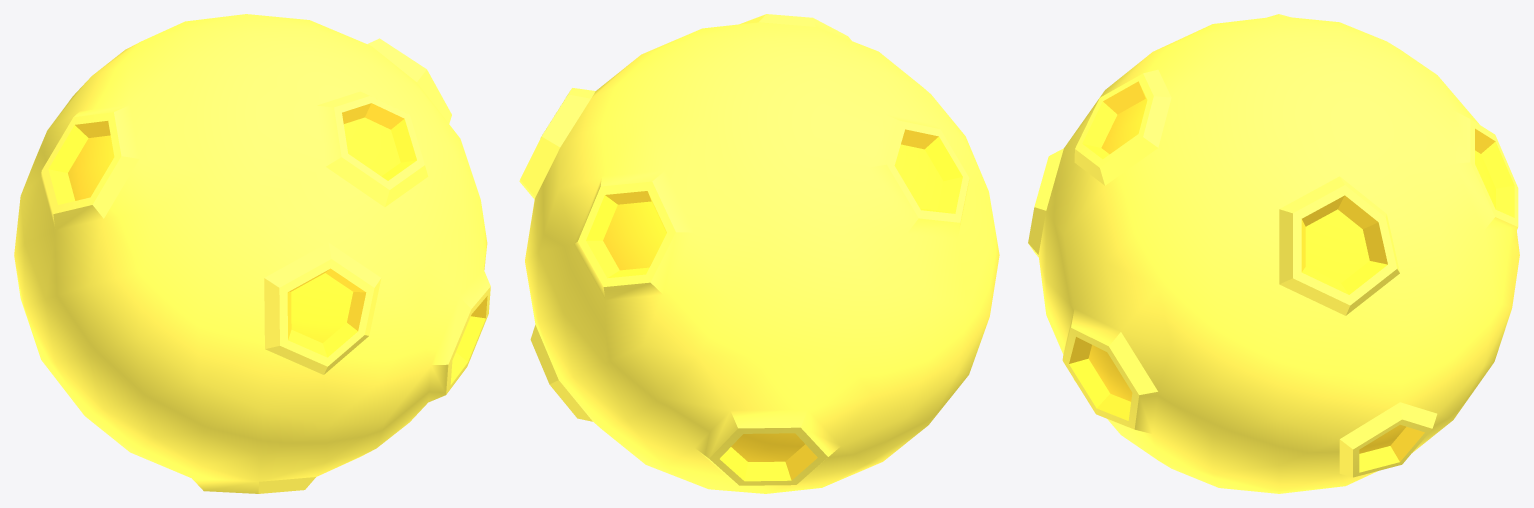
The model's file is full_moon.gltf.
3 renders of one model, left to right at view 1: azimuth 30°, elevation 25°; view 2: azimuth 150°, elevation 25°; view 3: azimuth 270°, elevation 25°, orthographic.
Parts seen in each view (by area): view 1: Icosphere.004; view 2: Icosphere.004; view 3: Icosphere.004.
Part boxes in pixels (x1=…): Icosphere.004: x1=14, y1=14, x2=490, y2=493; Icosphere.004: x1=519, y1=14, x2=999, y2=493; Icosphere.004: x1=1028, y1=14, x2=1519, y2=493.
Bounding box in the file's own units: 2.01 × 2.04 × 2.04.
Materials: 1 (1 with a texture image).
